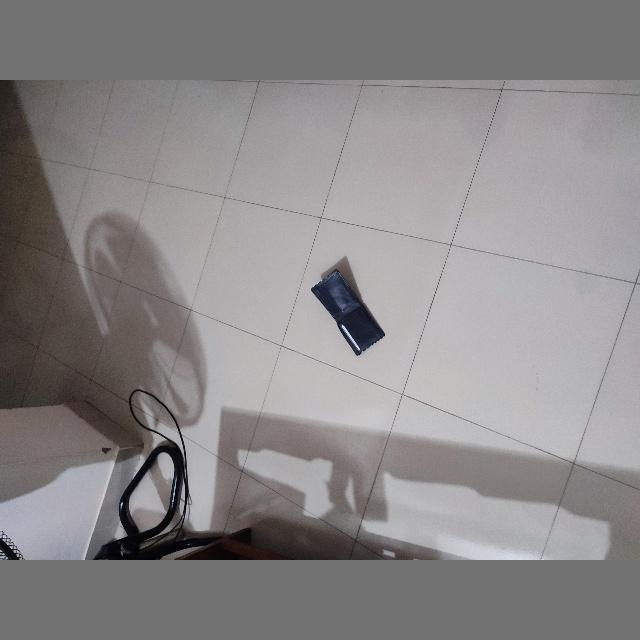Wallet: (312, 268, 386, 356)
